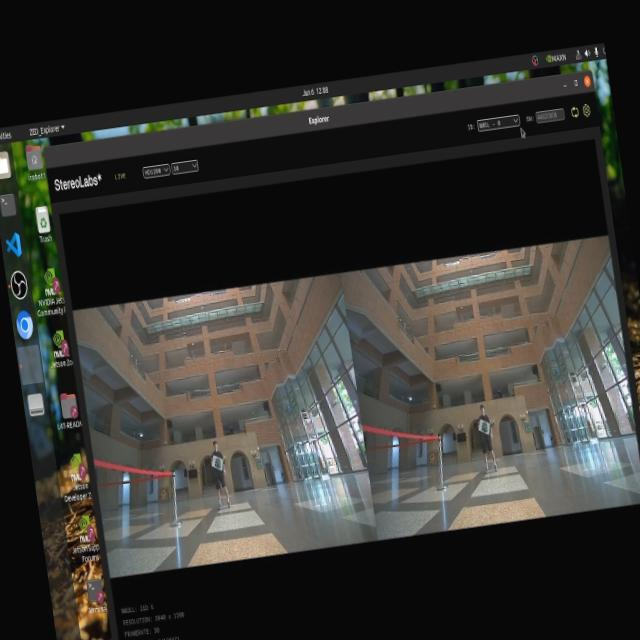green: (477, 418, 492, 440), (212, 451, 224, 472)
